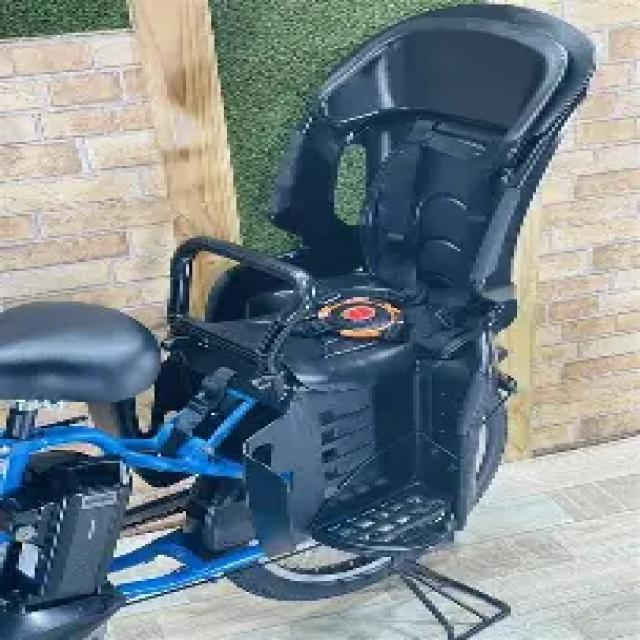battery: (9, 454, 138, 611)
childseat: (172, 5, 604, 549)
